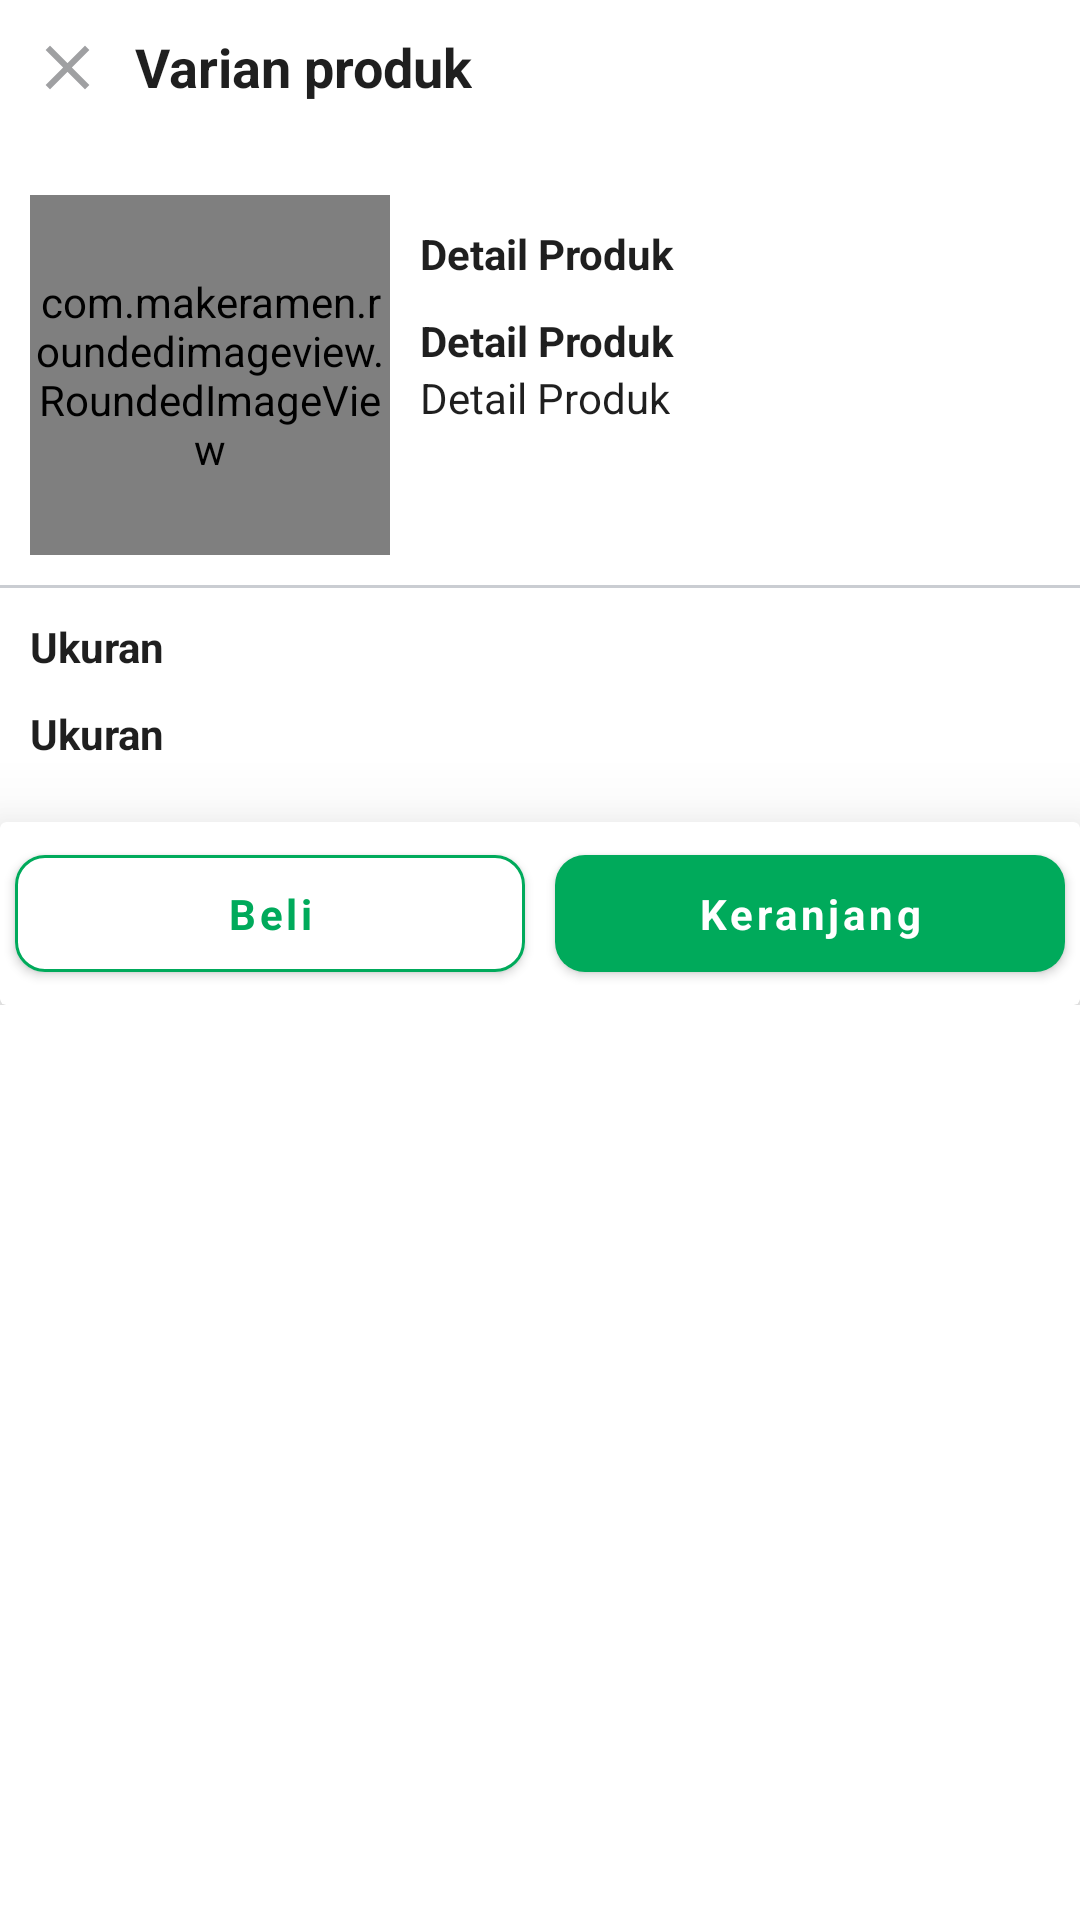

Named icons in this screenshot (1080px×1920px) and their centers, point (x, y):
close: point (67, 67)
